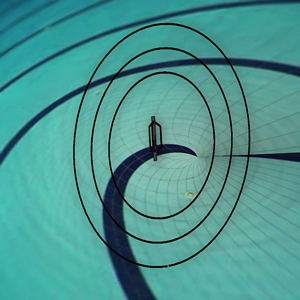circle: (57, 4, 273, 290)
submarine: (137, 114, 179, 163)
